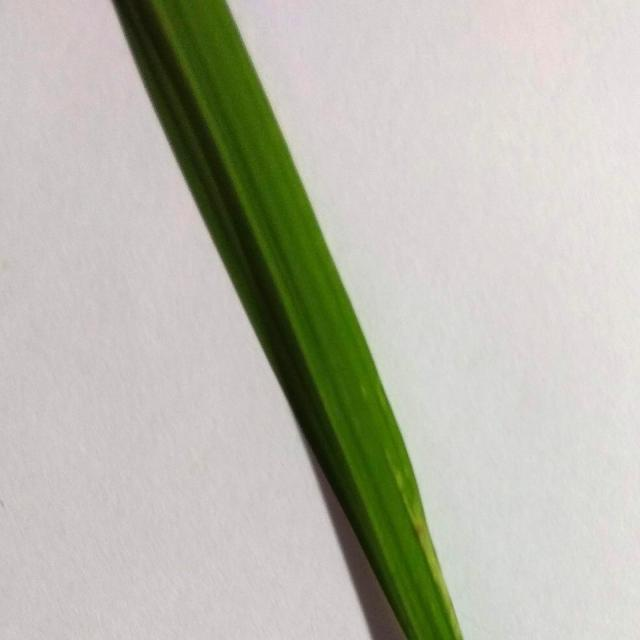healthy: (89, 0, 490, 640)
